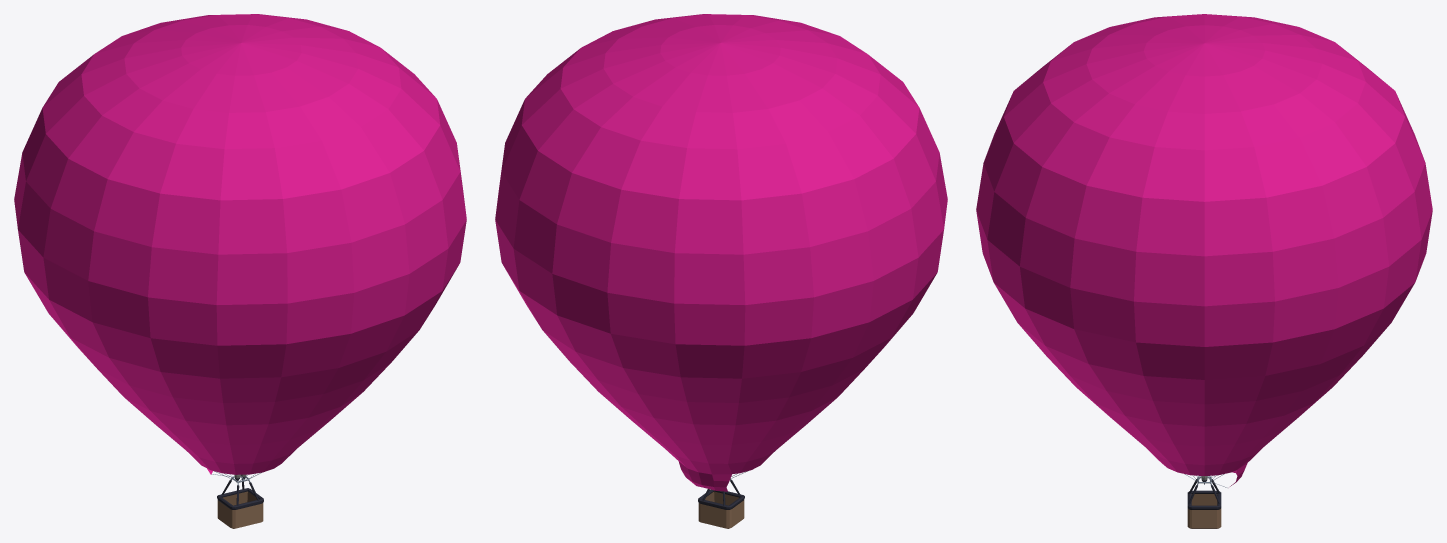
Rendered from HotAirBallon_Medium_03.fbx.
3 renders of one model, left to right at view 1: azimuth 30°, elevation 25°; view 2: azimuth 150°, elevation 25°; view 3: azimuth 270°, elevation 25°, orthographic.
Visible parts, largest first — view 1: HotAirBallon_Medium_03; view 2: HotAirBallon_Medium_03; view 3: HotAirBallon_Medium_03.
Part boxes in pixels (x1,y1,x2,y2): HotAirBallon_Medium_03: [14, 14, 466, 528]; HotAirBallon_Medium_03: [495, 14, 947, 528]; HotAirBallon_Medium_03: [976, 14, 1432, 528].
Size of the model in its own units: 22.43 by 25.98 by 22.43.
